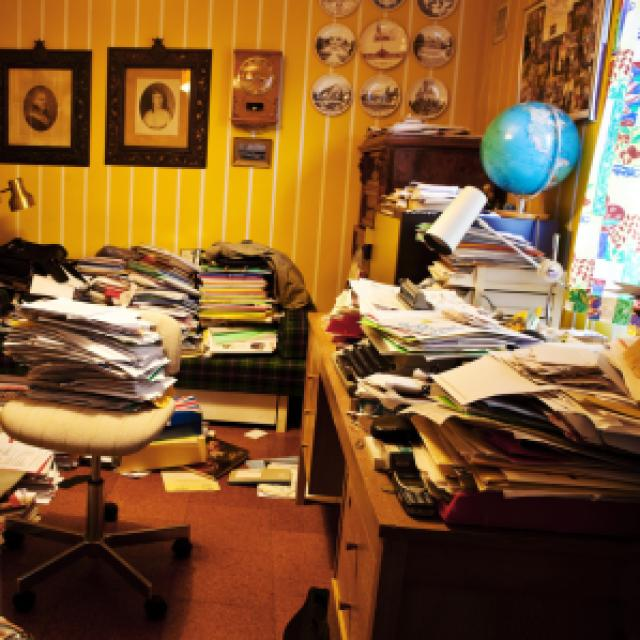mess: (326, 137, 640, 589), (3, 207, 316, 501)
